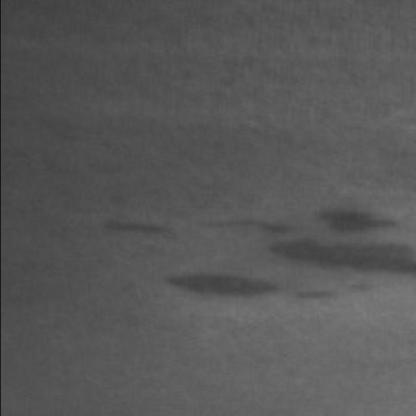inclusion: (193, 206, 410, 291), (150, 264, 287, 308), (87, 216, 183, 250)
